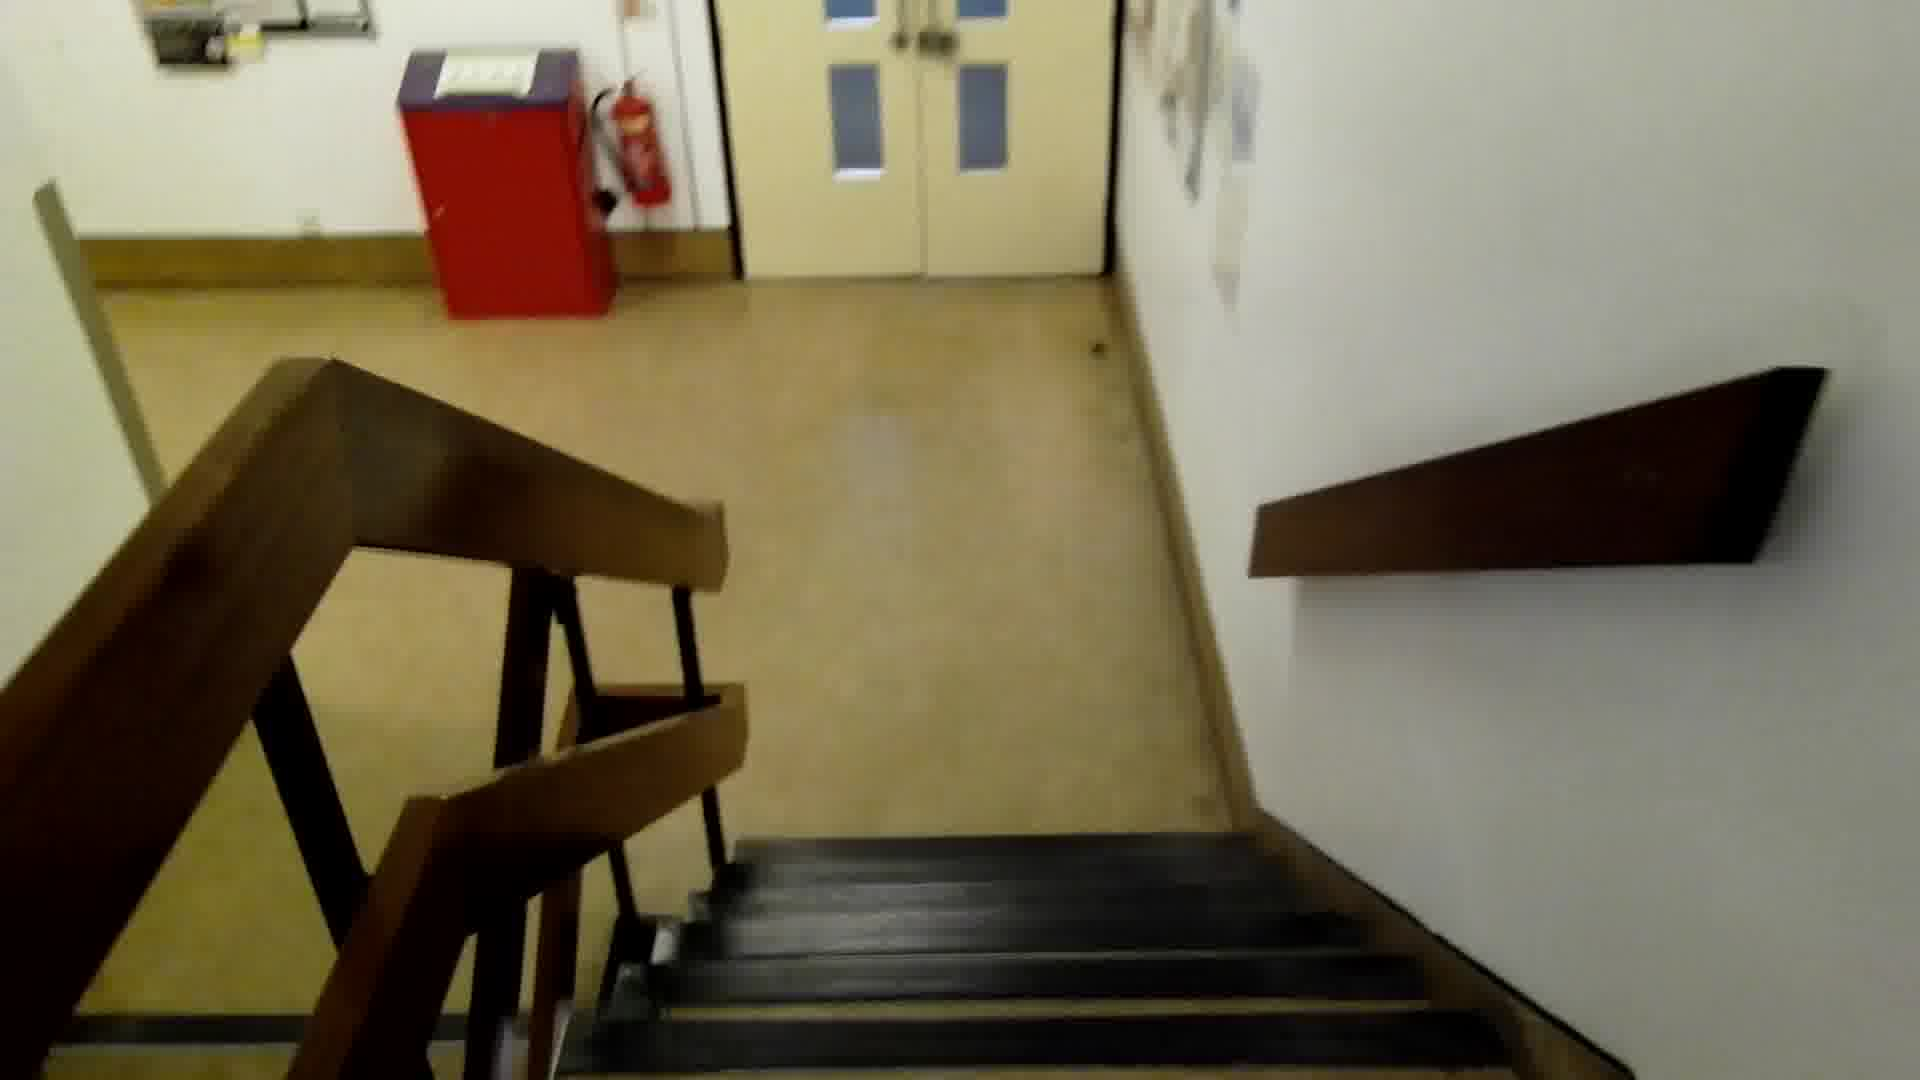Bin: (392, 36, 625, 331)
Stairs: (373, 605, 1634, 1080)
